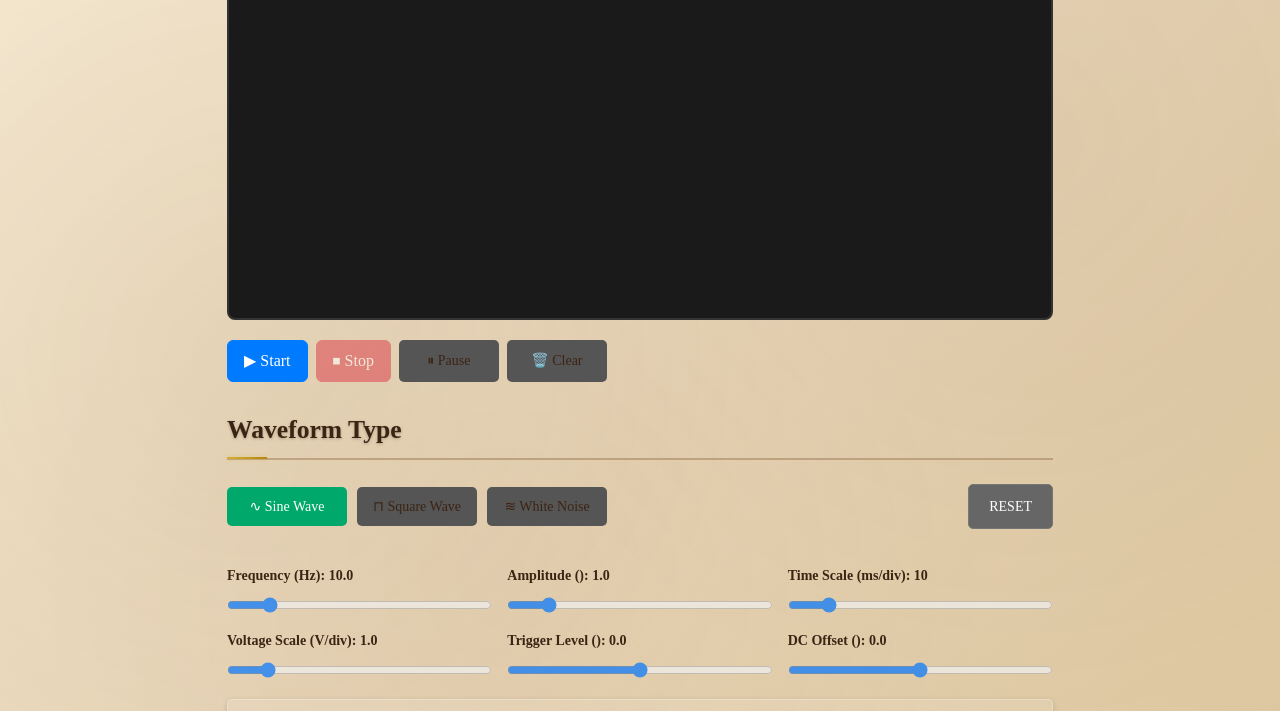
Test: DemoTab Component › Control Interactions › should toggle pause state when Pause button is clicked
(page scrolled)
Step 1. Click the button "⏸ Pause" → coordinates (449, 361), box [399,340,499,382]
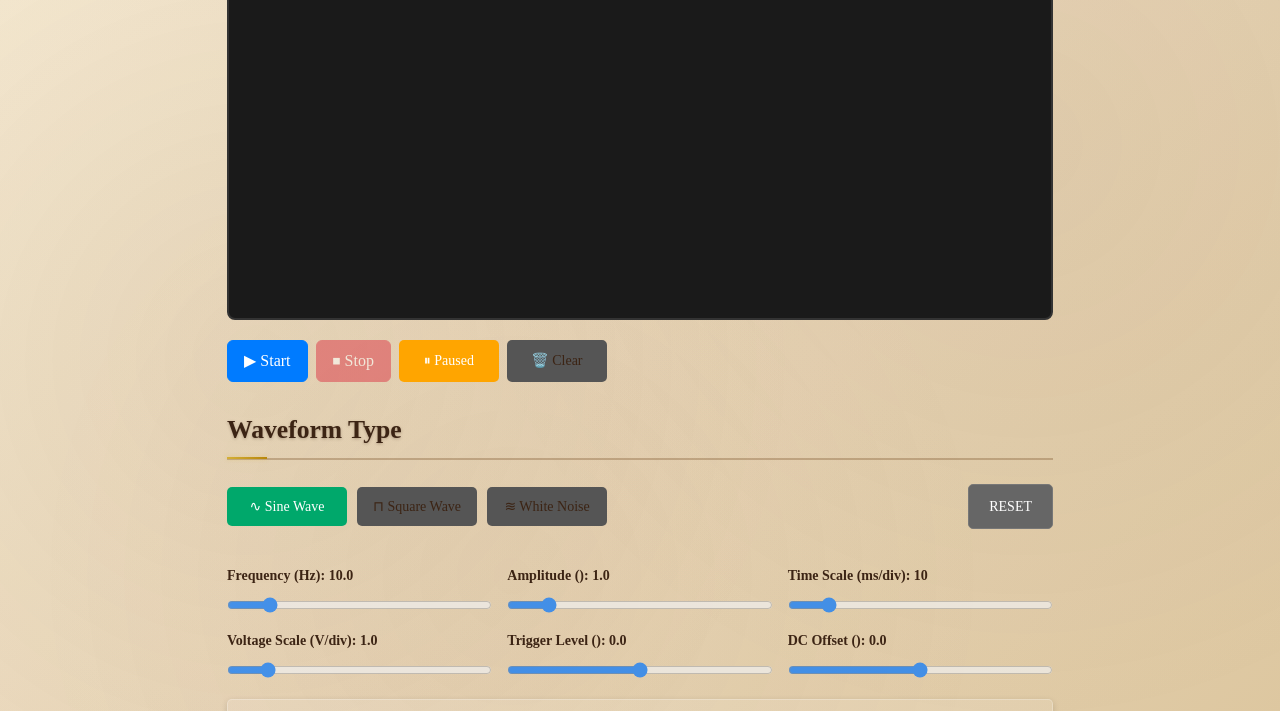
expect the button "⏸ Paused" is shown: met, box [399,340,499,382]
